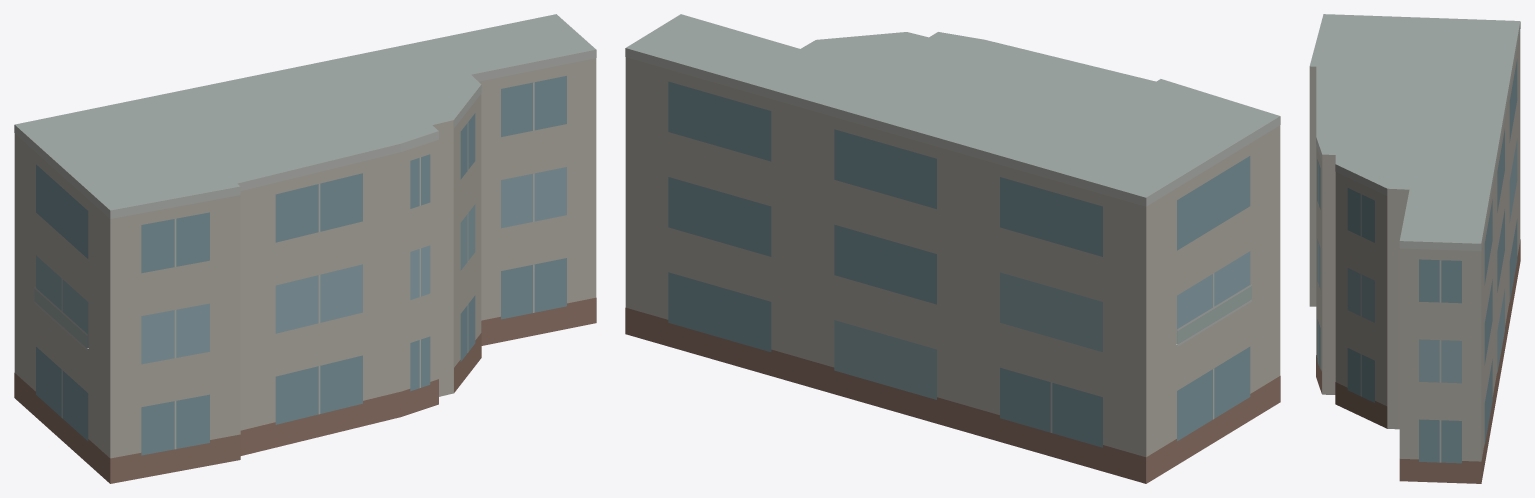
File: survey-upis-32957344.glb
3 views of the same model, side by side, from view 1: azimuth 30°, elevation 25°; view 2: azimuth 150°, elevation 25°; view 3: azimuth 270°, elevation 25° (orthographic). The views are drawn at different scales.
Parts seen in each view (by area): view 1: survey-upis-32957344.tmp; view 2: survey-upis-32957344.tmp; view 3: survey-upis-32957344.tmp.
Part boxes in pixels (x1,y1,x2,y2): survey-upis-32957344.tmp: (14, 14, 596, 483); survey-upis-32957344.tmp: (625, 14, 1280, 483); survey-upis-32957344.tmp: (1309, 14, 1520, 483).
Size of the model in its own units: 16.12 by 7.85 by 6.26.
